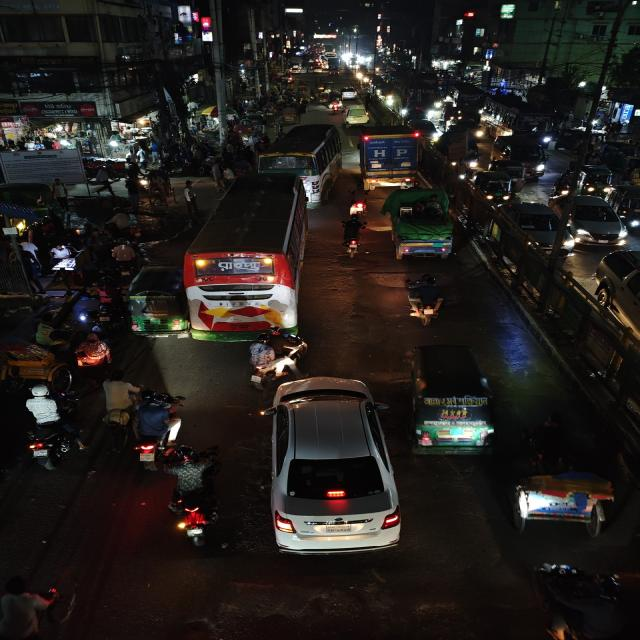bus: (183, 172, 311, 344), (259, 122, 345, 205), (481, 96, 552, 138), (390, 78, 443, 117)
car: (260, 374, 401, 556), (594, 246, 640, 353), (492, 202, 578, 259), (553, 193, 627, 245), (492, 136, 549, 176), (448, 118, 487, 140), (409, 118, 441, 142), (343, 102, 370, 126), (338, 85, 358, 100)
cng: (404, 342, 501, 458), (123, 264, 186, 340), (471, 170, 516, 206), (610, 184, 640, 231), (576, 163, 615, 195), (625, 156, 640, 187)
motorcycle: (529, 558, 638, 640), (165, 444, 224, 552), (20, 385, 84, 470), (126, 390, 188, 473), (247, 331, 304, 384), (401, 272, 449, 326), (71, 333, 115, 371), (339, 214, 368, 260), (347, 186, 370, 218), (328, 96, 343, 114)
pedestrian: (98, 370, 138, 432), (108, 239, 141, 272), (210, 160, 231, 190), (181, 177, 198, 209)
pickup_van: (380, 188, 458, 263)
rickshaw: (500, 464, 628, 538), (1, 324, 76, 390)
truck: (356, 125, 422, 188)
